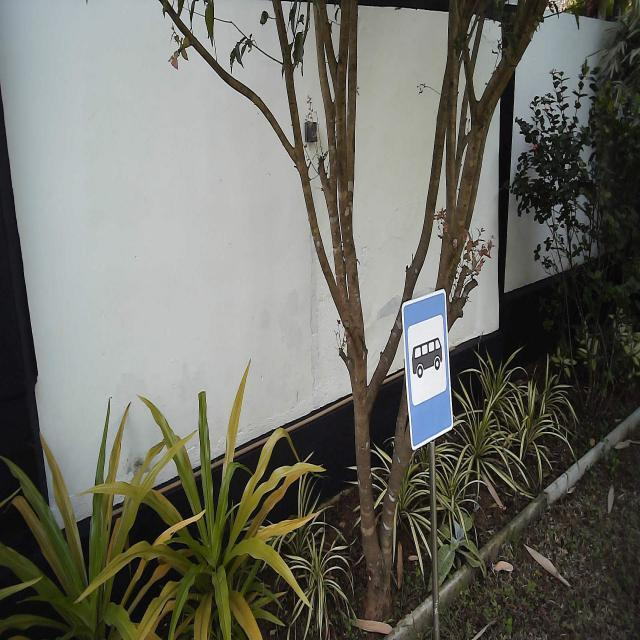bus_stop: (400, 287, 454, 454)
